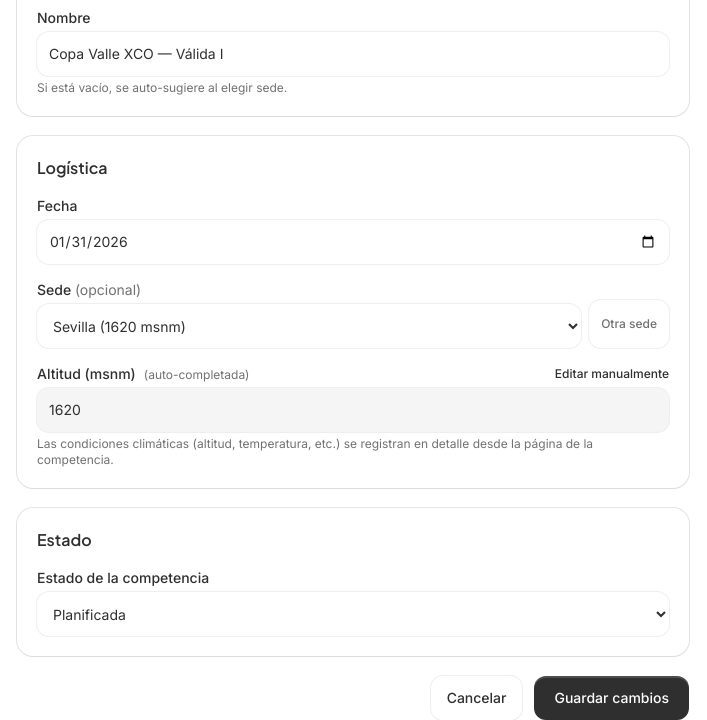
Scenario: CompetitionFormPage — mode=edit › cambiar status a 'Cancelada' muestra banner de advertencia
(page scrolled)
Check: the field labelled "Nombre" is shown, box [37,32,669,76]
Select "Cancelada" in the dropdown labelled "Estado de la competencia" at (353,614), box [37,592,669,636]
(page scrolled)
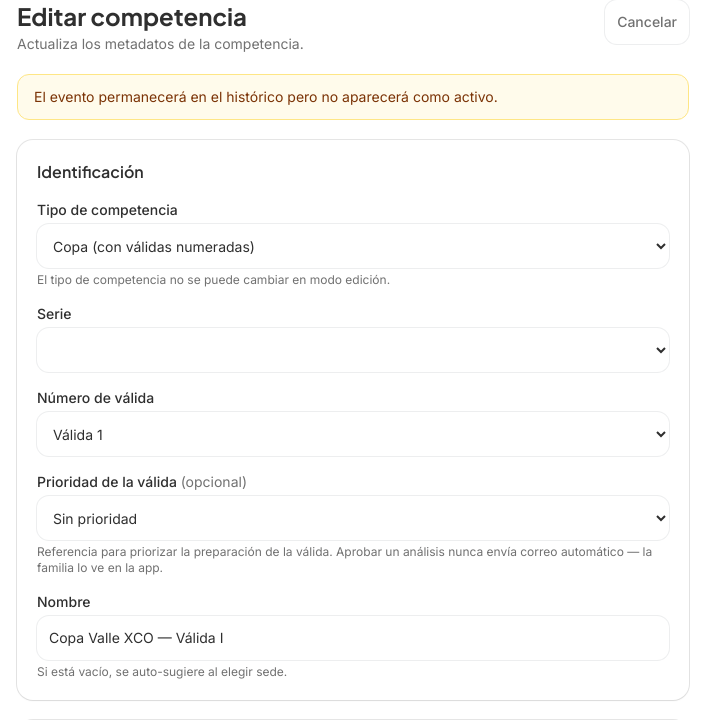
Check: the text "permanecerá en el histórico pero no aparecerá como activo" is shown, box [34,88,498,105]
